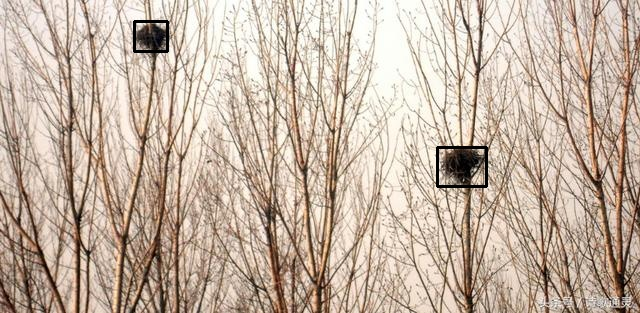bird-nest: (437, 147, 486, 186), (134, 21, 167, 51)
